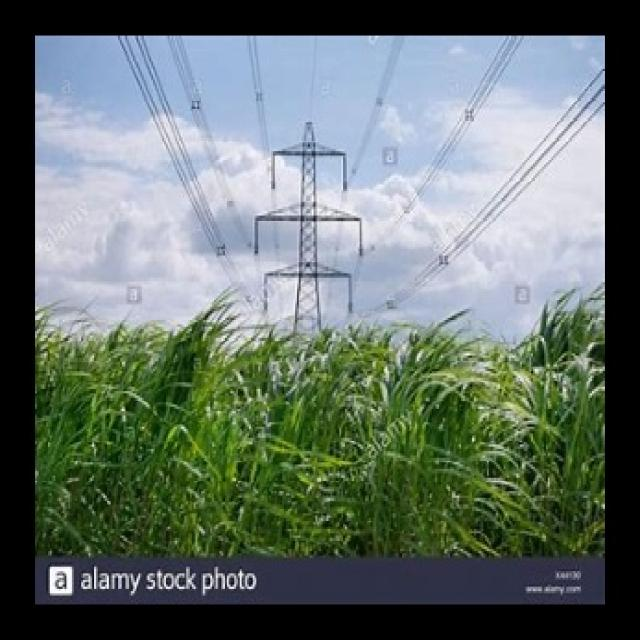utility poles: (256, 98, 362, 552)
